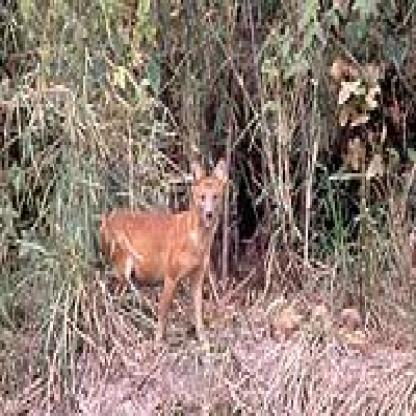dhole: (93, 152, 222, 340)
